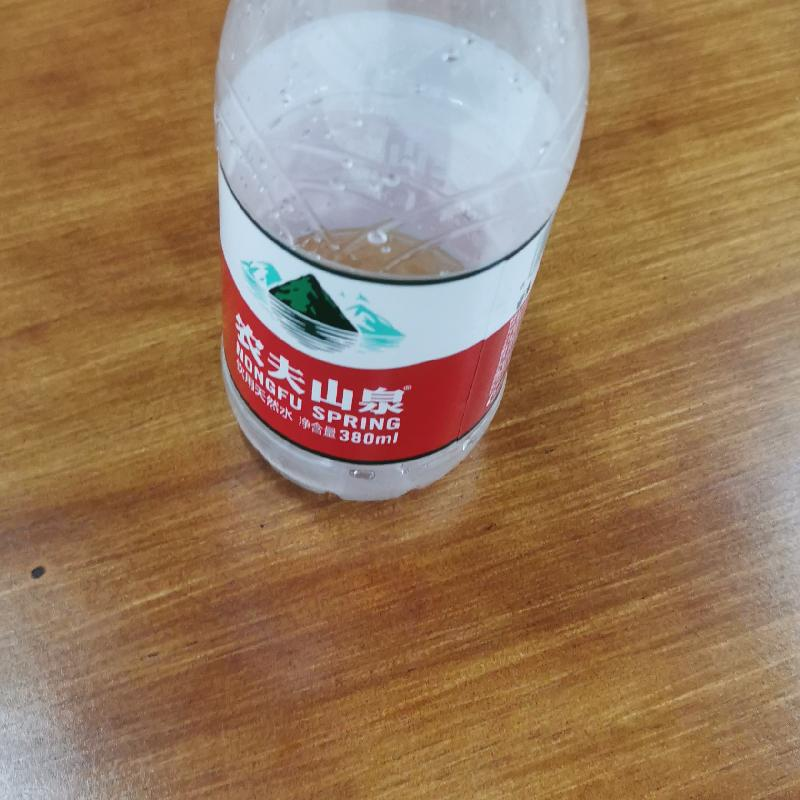bottles: (196, 0, 598, 505)
